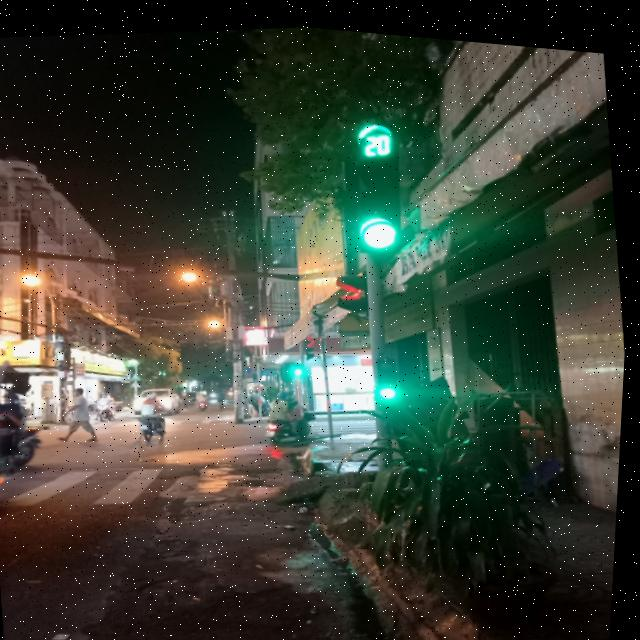Green: (337, 146, 419, 254), (360, 332, 414, 404)
